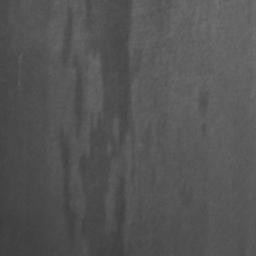Inclusion: (79, 0, 132, 256)
